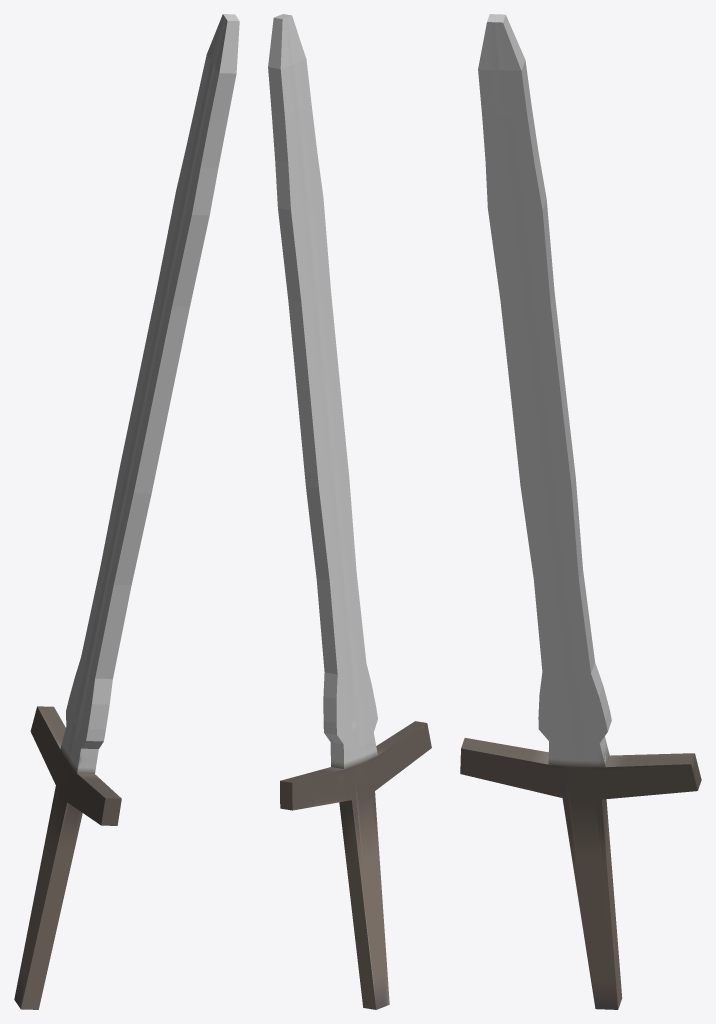
The model's file is sword_000063.obj.
3 renders of one model, left to right at view 1: azimuth 30°, elevation 25°; view 2: azimuth 150°, elevation 25°; view 3: azimuth 270°, elevation 25°, orthographic. The views are drawn at different scales.
Bounding box in the file's own units: 0.1232 × 0.689 × 0.141.
